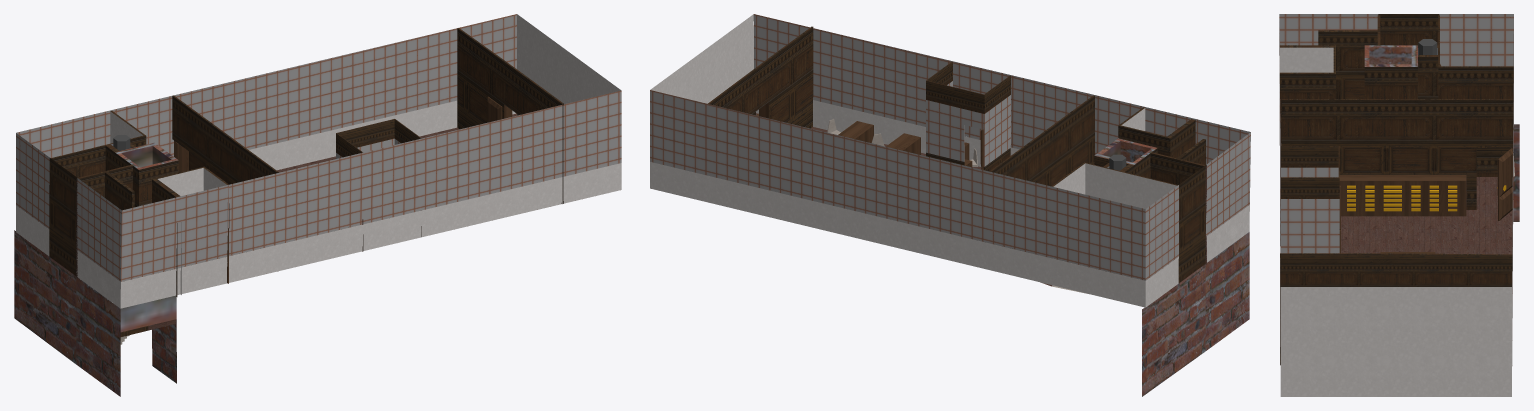
The model's file is OfficeInterior.glb.
3 views of the same model, side by side, from view 1: azimuth 30°, elevation 25°; view 2: azimuth 150°, elevation 25°; view 3: azimuth 270°, elevation 25° (orthographic). The views are drawn at different scales.
Visible parts, largest first — view 1: Interior; view 2: Interior; view 3: Interior.
Boxes of the visible parts, x1=… form: Interior: x1=14, y1=14, x2=621, y2=396; Interior: x1=650, y1=14, x2=1250, y2=396; Interior: x1=1279, y1=14, x2=1519, y2=396.
Bounding box in the file's own units: 23.28 × 8.66 × 8.76.
10 materials, 8 textured.
